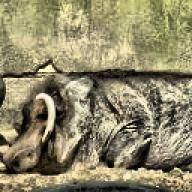boar: (0, 68, 192, 174)
